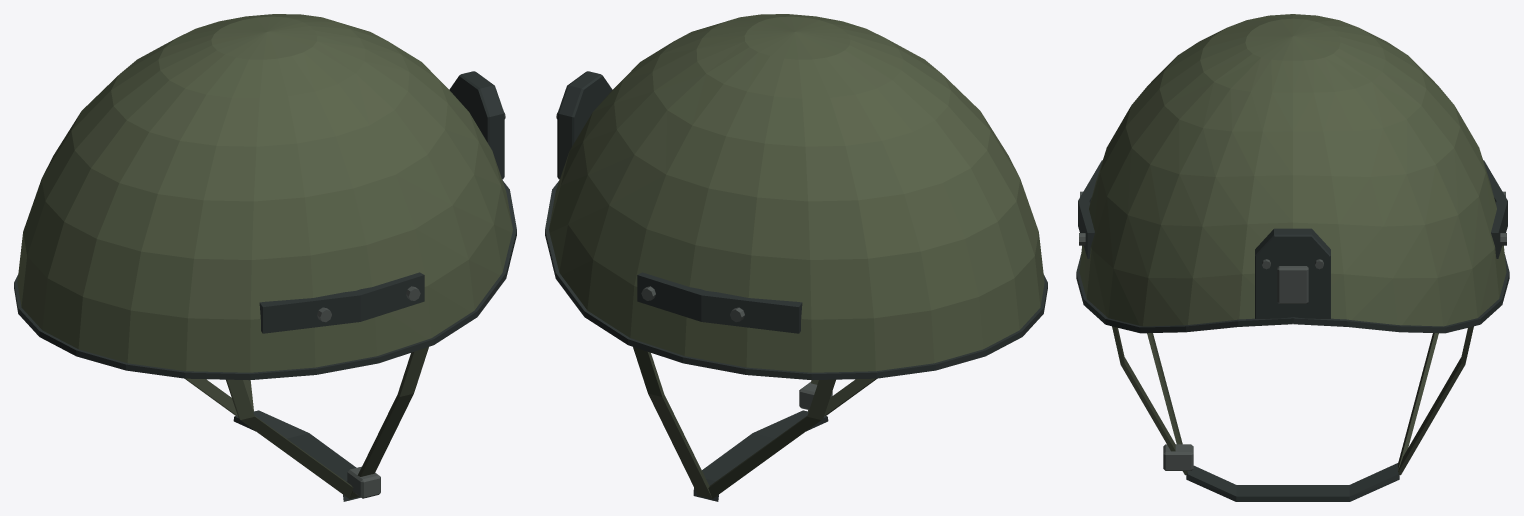
Rendered from SM_Helmet.fbx.
3 renders of one model, left to right at view 1: azimuth 30°, elevation 25°; view 2: azimuth 150°, elevation 25°; view 3: azimuth 270°, elevation 25°, orthographic. The views are drawn at different scales.
Parts seen in each view (by area): view 1: SM_Helmet.001; view 2: SM_Helmet.001; view 3: SM_Helmet.001.
Part boxes in pixels (box(x1,y1,x2,y2)): SM_Helmet.001: box(14, 14, 516, 501); SM_Helmet.001: box(545, 14, 1047, 501); SM_Helmet.001: box(1076, 14, 1509, 501).
Size of the model in its own units: 26.69 by 22.89 by 25.16.
